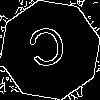C: (25, 25, 71, 78)
